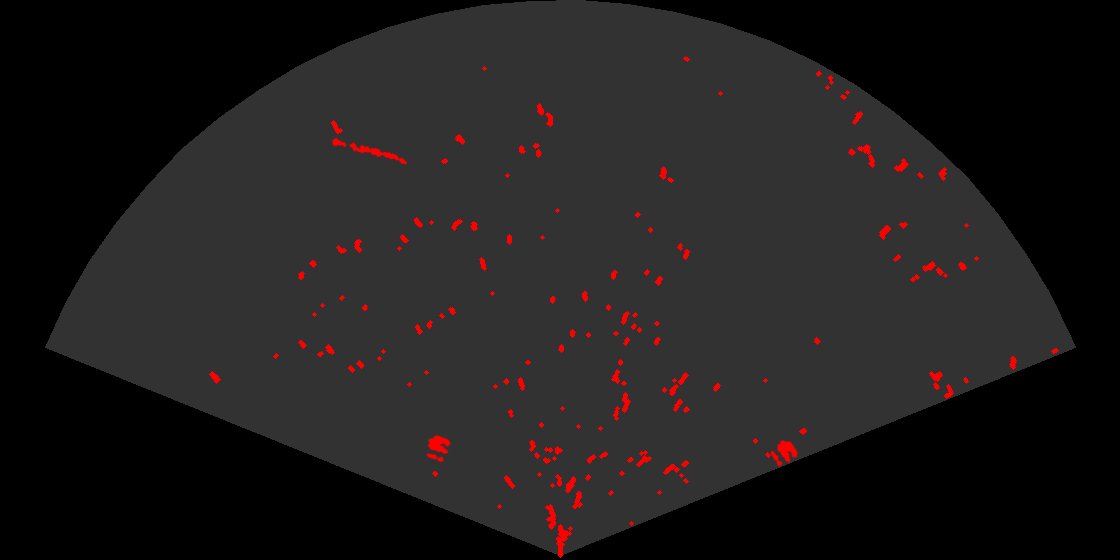ball: (769, 438, 799, 468), (425, 433, 453, 464)
chain: (329, 136, 409, 166)
